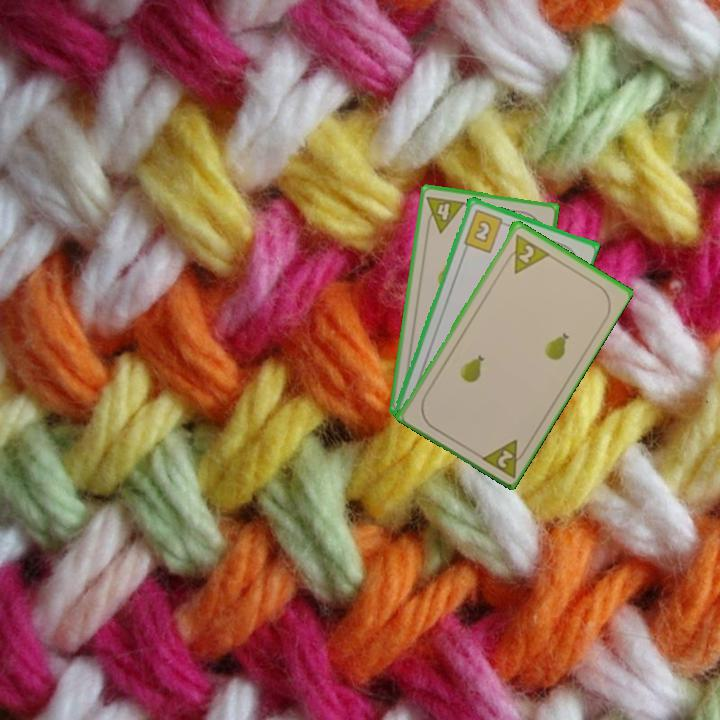2b: (460, 205, 511, 255)
2p: (476, 435, 531, 480), (501, 230, 551, 276)
4p: (422, 192, 468, 235)
